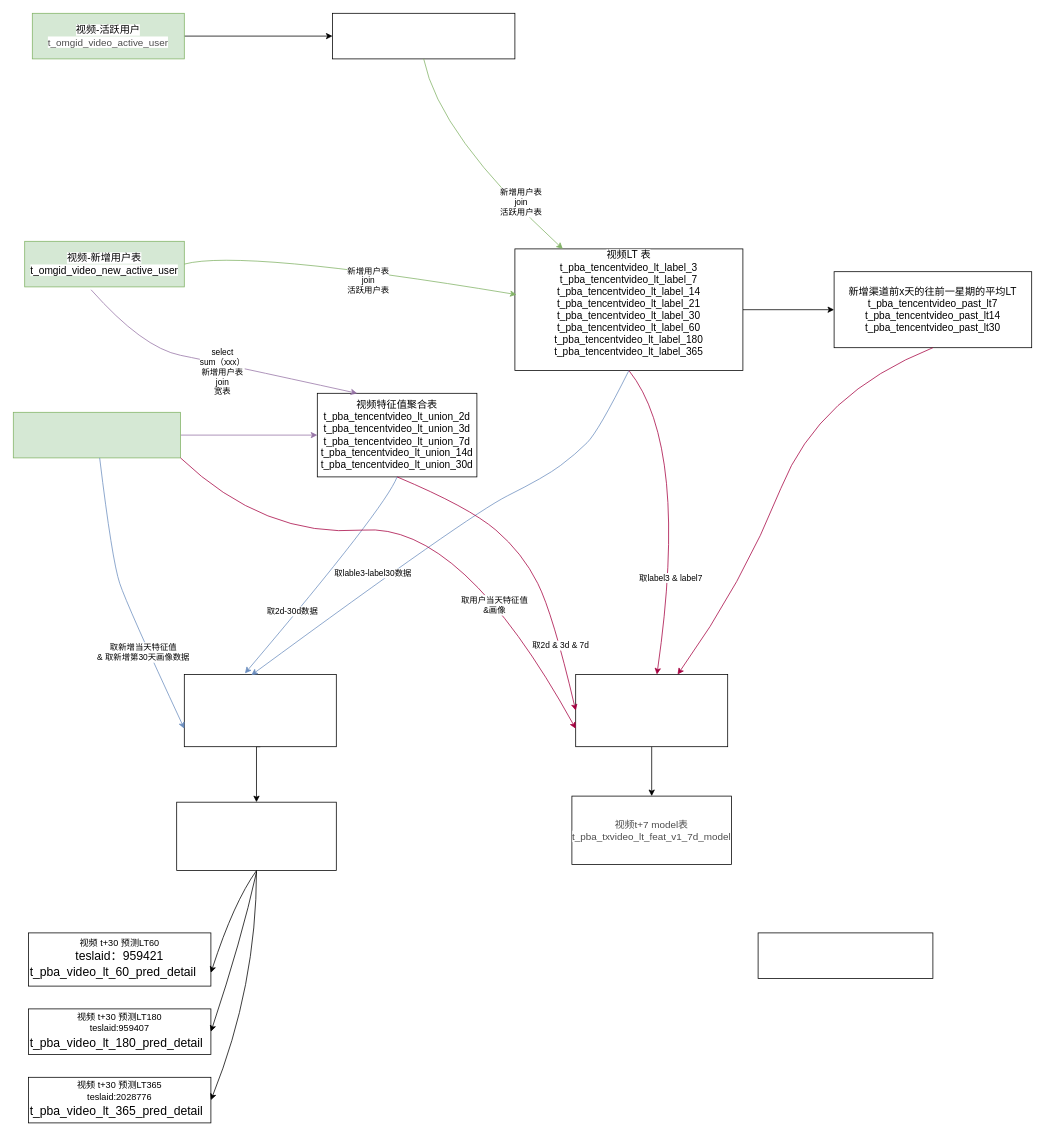
Image size: 1045x1136. Some labels were removed from this diagram. Here are the shapes that lost their labels. From the top down, the centre of each, then its label:
point 423,36: 从全量表提取的活跃用户表 t_pba_tencentvideo_lt_active_user_mid
point 96,435: 腾讯视频用户宽表 t_videoapp_ug_omgid_active_bigtable
point 260,710: 视频t+30 feat表 t_pba_txvideo_lt_feat_v1
point 651,710: 视频t+7 feat表 t_pba_txvideo_lt_feat_v1_7d
point 256,836: 视频t+30model表 t_pba_txvideo_lt_feat_v1_model
